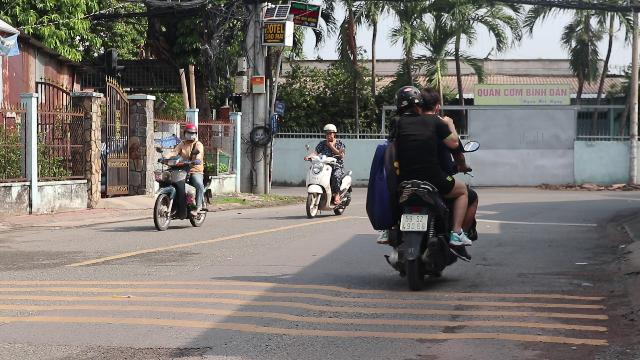helmet: (392, 86, 422, 115), (181, 123, 197, 141), (322, 124, 336, 140)
licenseplate: (401, 215, 427, 231)
motorcyclist: (366, 84, 480, 286), (148, 122, 212, 232), (302, 122, 354, 218)
nohelmet: (420, 88, 442, 112)
